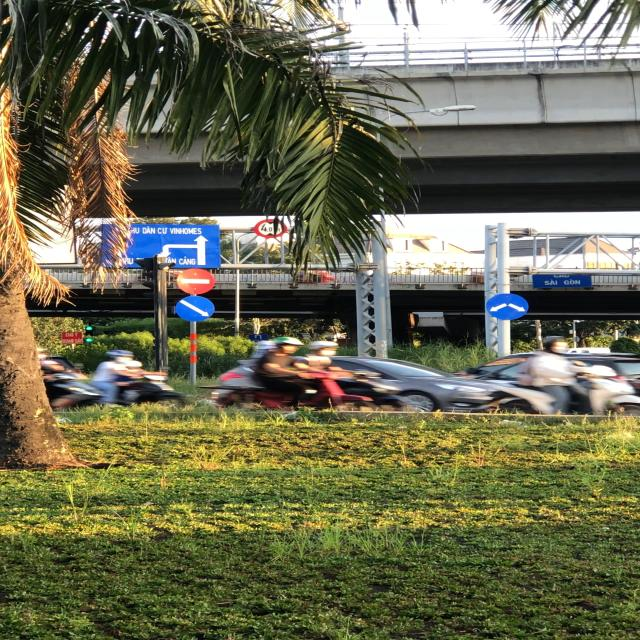Bien bao cam di nguoc chieu: (172, 267, 218, 294)
